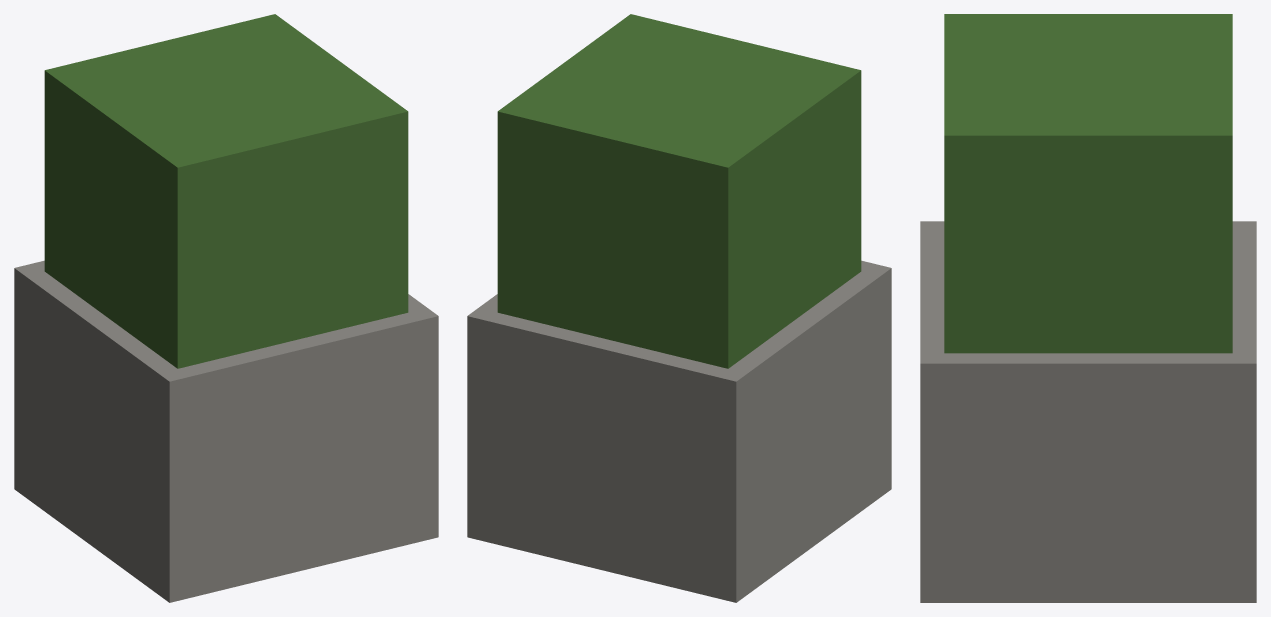
File: SM_K_PlanterBush.obj
The picture shows the model from 3 angles, left to right: view 1: azimuth 30°, elevation 25°; view 2: azimuth 150°, elevation 25°; view 3: azimuth 270°, elevation 25°; orthographic projection. The views are drawn at different scales.
Parts seen in each view (by area): view 1: SM_K_PlanterBush; view 2: SM_K_PlanterBush; view 3: SM_K_PlanterBush.
Part boxes in pixels (bbox=[...]): SM_K_PlanterBush: bbox=[14, 14, 438, 602]; SM_K_PlanterBush: bbox=[467, 14, 891, 602]; SM_K_PlanterBush: bbox=[920, 14, 1256, 602].
Bounding box in the file's own units: 0.7 × 1.05 × 0.7.
